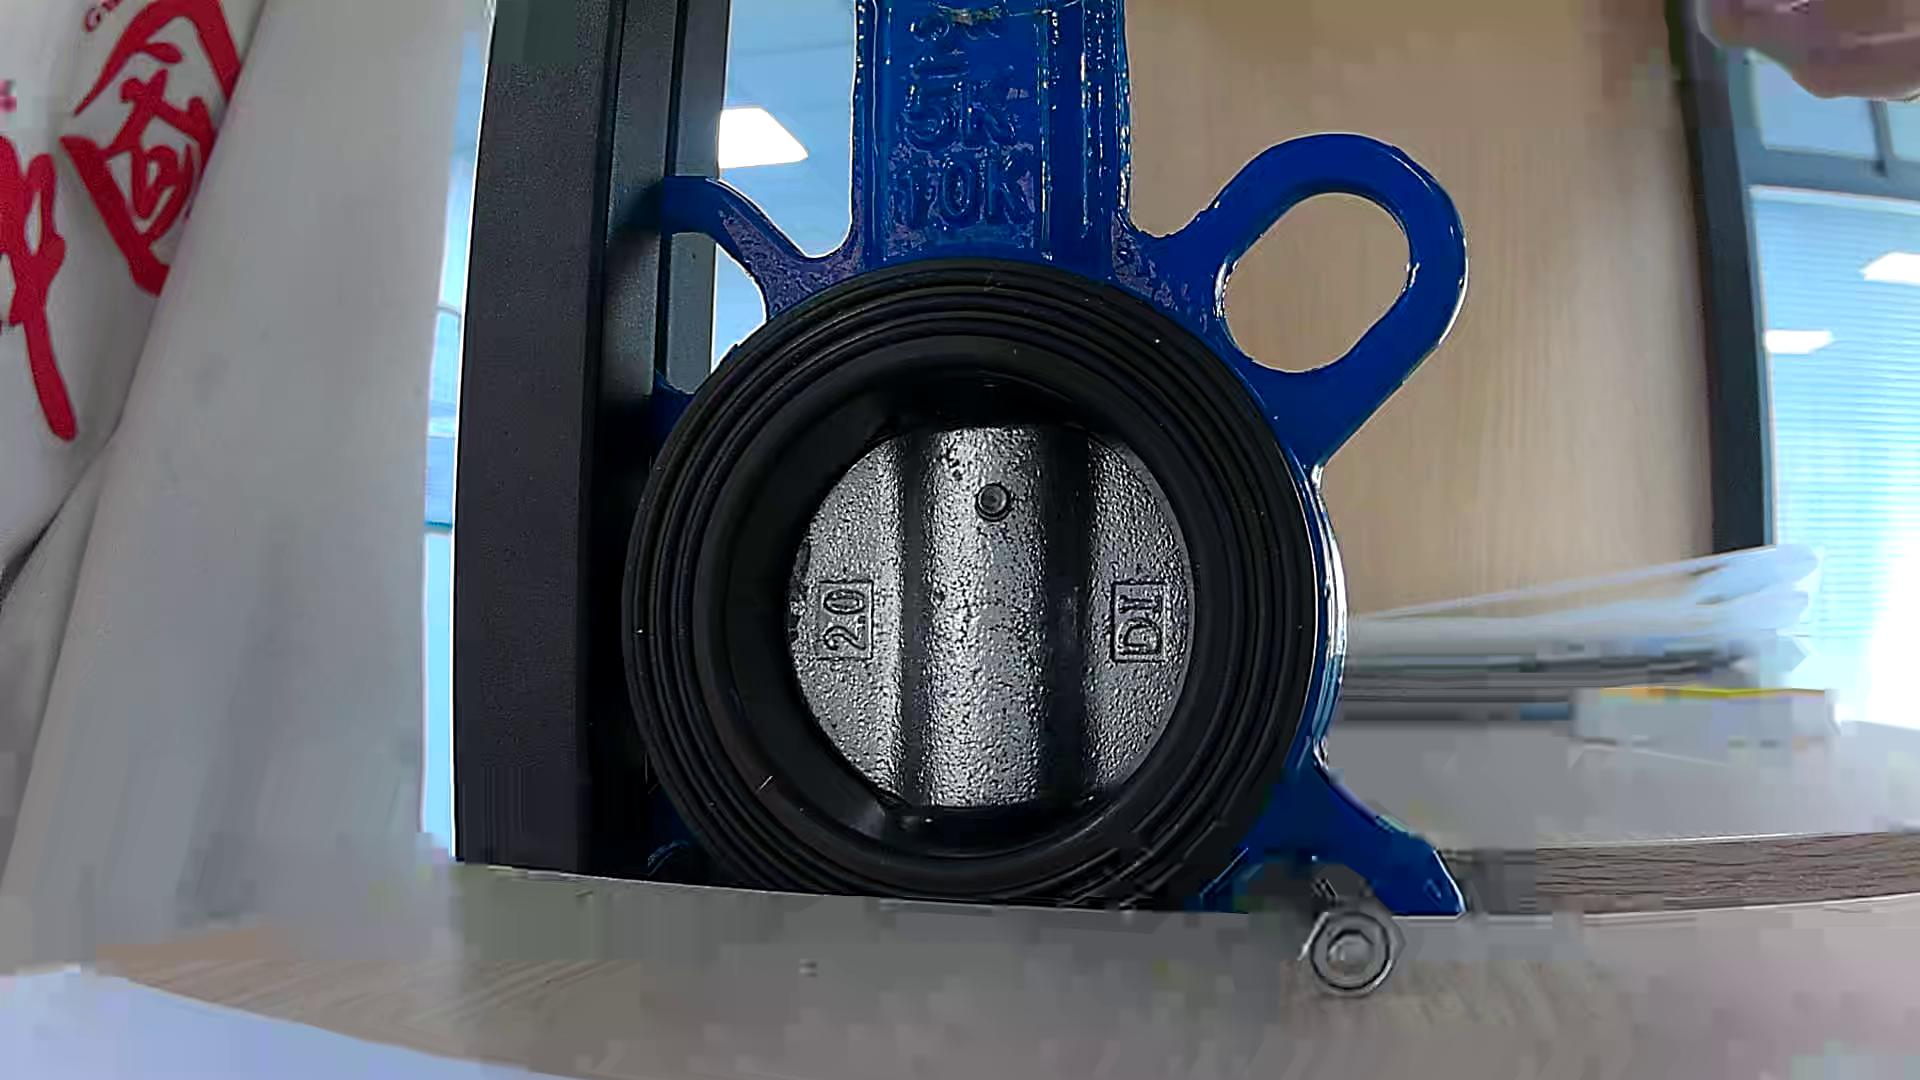valve: (787, 423, 1192, 810)
